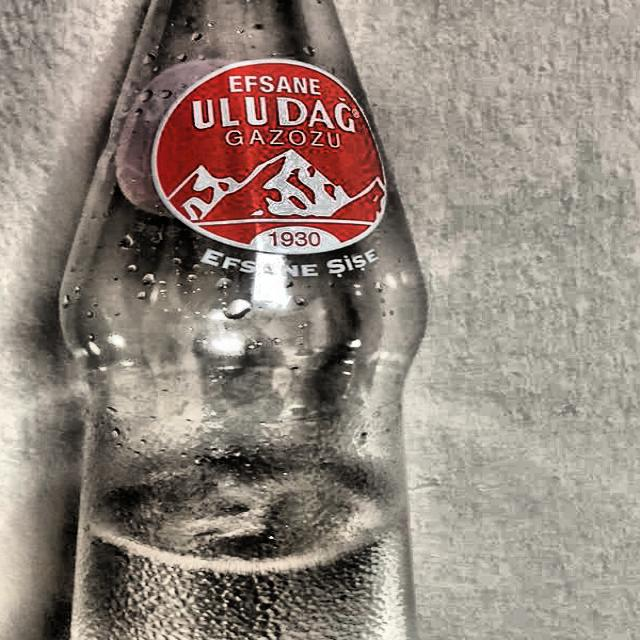plastic: (50, 0, 436, 640)
